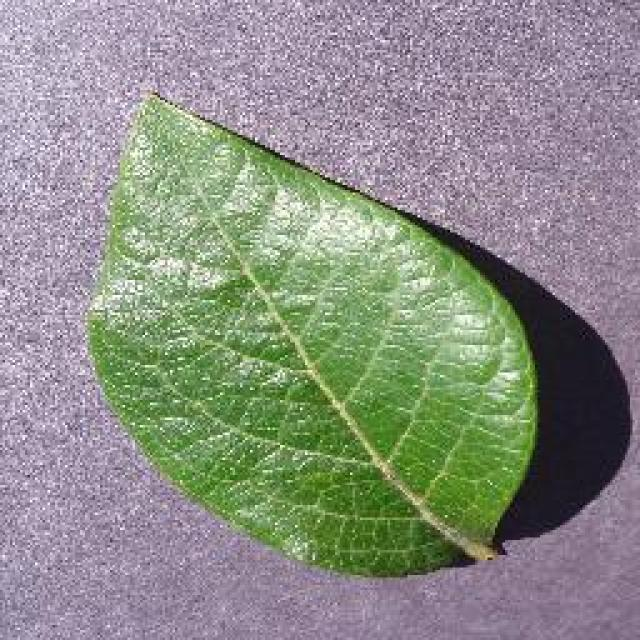Blu_healthy: (115, 193, 455, 522)
